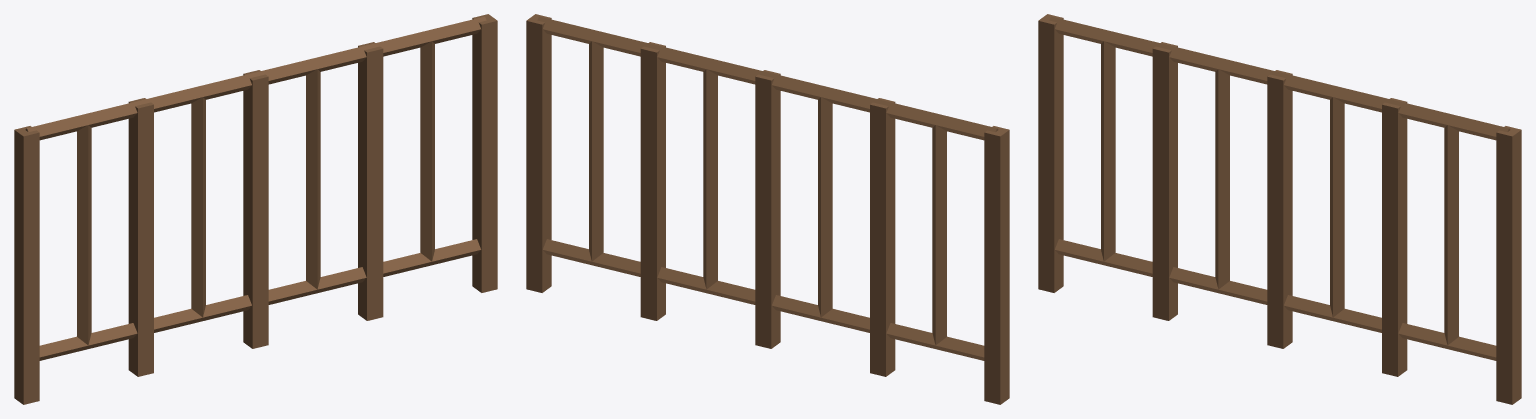
The model's file is WoodFence.glb.
3 views of the same model, side by side, from view 1: azimuth 30°, elevation 25°; view 2: azimuth 150°, elevation 25°; view 3: azimuth 330°, elevation 25° (orthographic).
Visible parts, largest first — view 1: RAIL_Modern_WoodFence_RailBody.001, RAIL_Modern_WoodFence_StartPost.001, RAIL_Modern_WoodFence_EndPost.001; view 2: RAIL_Modern_WoodFence_RailBody.001, RAIL_Modern_WoodFence_StartPost.001, RAIL_Modern_WoodFence_EndPost.001; view 3: RAIL_Modern_WoodFence_RailBody.001, RAIL_Modern_WoodFence_EndPost.001, RAIL_Modern_WoodFence_StartPost.001.
Boxes of the visible parts, x1,y1,x2,y2 form: RAIL_Modern_WoodFence_RailBody.001: [25, 16, 486, 376]; RAIL_Modern_WoodFence_StartPost.001: [14, 126, 39, 404]; RAIL_Modern_WoodFence_EndPost.001: [472, 14, 497, 292]; RAIL_Modern_WoodFence_RailBody.001: [537, 16, 998, 376]; RAIL_Modern_WoodFence_StartPost.001: [984, 126, 1009, 404]; RAIL_Modern_WoodFence_EndPost.001: [526, 14, 551, 292]; RAIL_Modern_WoodFence_RailBody.001: [1049, 16, 1510, 376]; RAIL_Modern_WoodFence_EndPost.001: [1496, 126, 1521, 404]; RAIL_Modern_WoodFence_StartPost.001: [1038, 14, 1063, 292].
Bounding box in the file's own units: 2.07 × 1.13 × 0.07.
